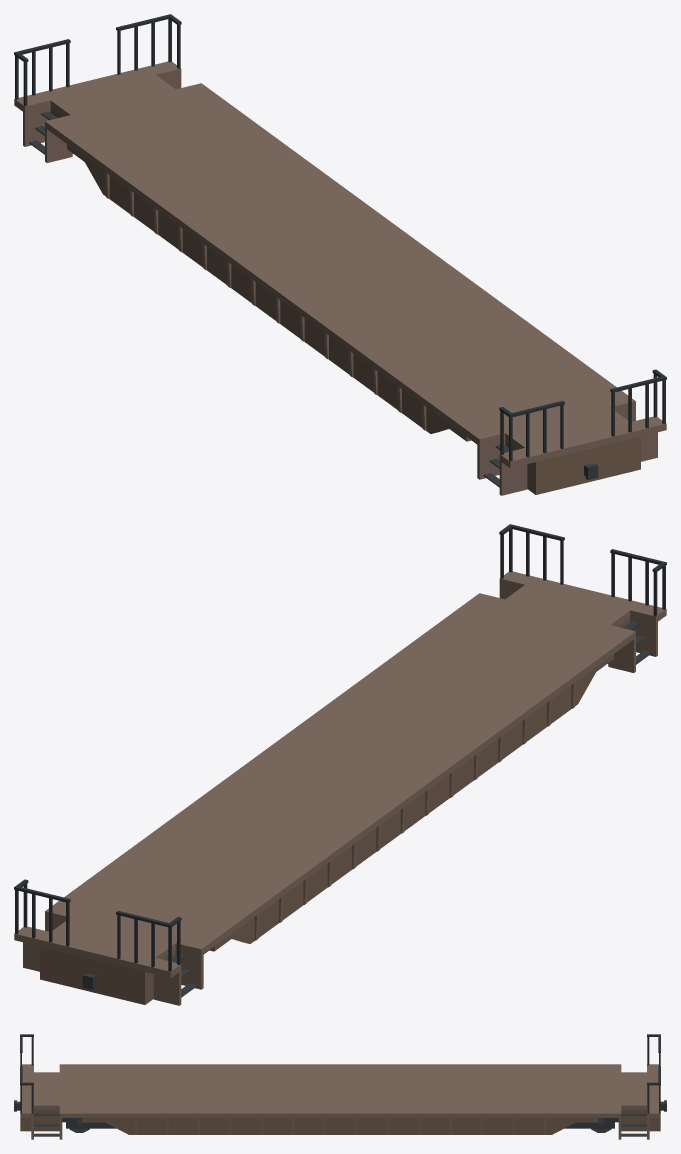
File: SM_Trains_Train_03_C1.glb
The picture shows the model from 3 angles, top to bottom: view 1: azimuth 30°, elevation 25°; view 2: azimuth 150°, elevation 25°; view 3: azimuth 270°, elevation 25°; orthographic projection. The views are drawn at different scales.
Visible parts, largest first — view 1: SM_Trains_Train_03_C1; view 2: SM_Trains_Train_03_C1; view 3: SM_Trains_Train_03_C1.
Boxes of the visible parts, box(x1,y1,x2,y2) form: SM_Trains_Train_03_C1: box(14, 14, 666, 495); SM_Trains_Train_03_C1: box(14, 524, 666, 1005); SM_Trains_Train_03_C1: box(14, 1034, 666, 1139).
Bounding box in the file's own units: 3.51 × 2.02 × 19.58.
1 material, 1 textured.
